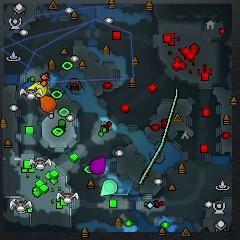p1: (21, 81, 38, 91)
p2: (101, 180, 118, 197)
p3: (90, 157, 105, 176)
p4: (28, 81, 49, 98)
p5: (39, 95, 56, 113)
